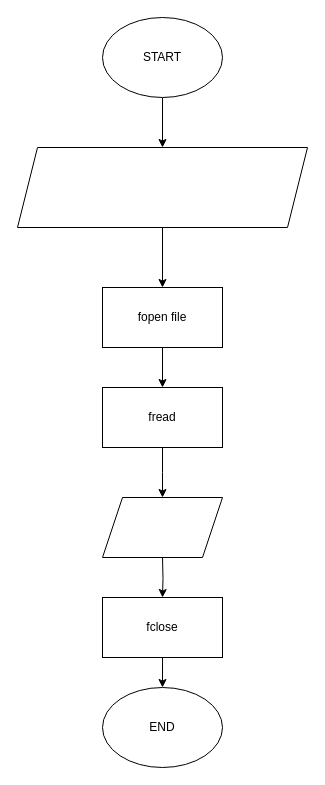
This 325x785 diagram has some shape labels left out. The centre of each missing label's shape, as x and y in pixels:
filePoiter, buffer [100]: pixel 162 187
in ra man hinh: pixel 162 527
